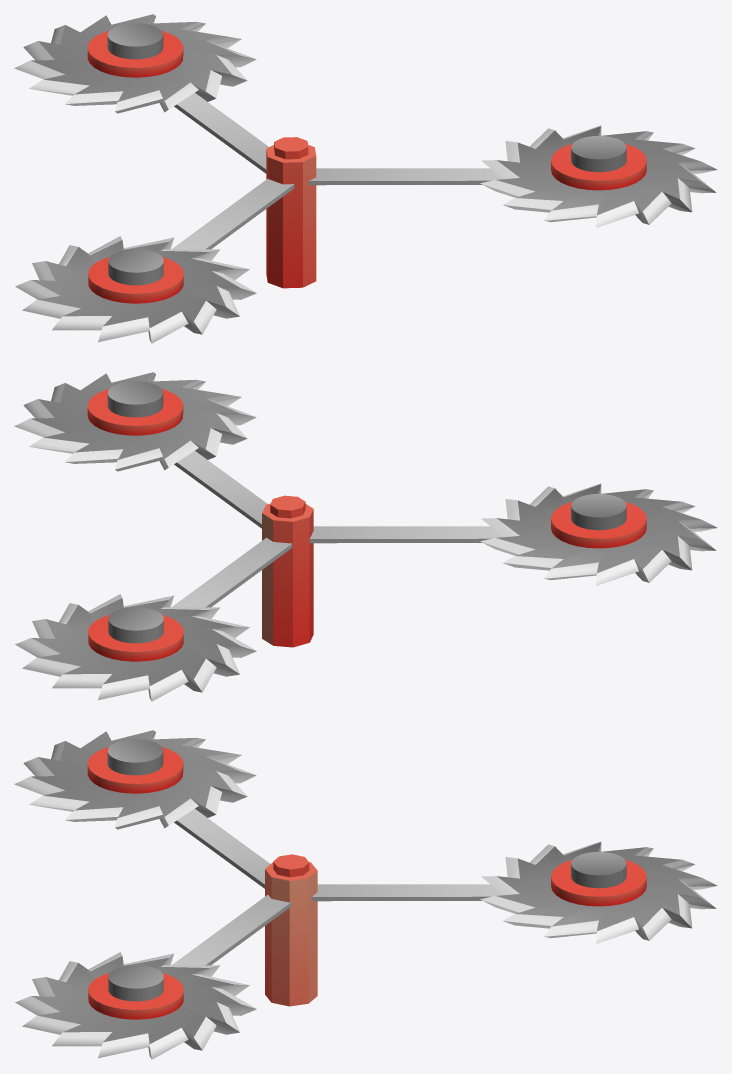
File: LuoiCuaLon.fbx
The picture shows the model from 3 angles, top to bottom: view 1: azimuth 30°, elevation 25°; view 2: azimuth 150°, elevation 25°; view 3: azimuth 270°, elevation 25°; orthographic projection.
Visible parts, largest first — view 1: LuoiCua.003, LuoiCua.005, LuoiCua.004, Cylinder; view 2: LuoiCua.004, LuoiCua.003, LuoiCua.005, Cylinder; view 3: LuoiCua.005, LuoiCua.004, LuoiCua.003, Cylinder.
Part boxes in pixels (x1,y1,x2,y2): LuoiCua.003: [15, 236, 256, 343]; LuoiCua.005: [480, 125, 717, 227]; LuoiCua.004: [14, 14, 256, 113]; Cylinder: [172, 92, 503, 288]; LuoiCua.004: [15, 594, 256, 701]; LuoiCua.003: [480, 483, 717, 585]; LuoiCua.005: [14, 372, 256, 471]; Cylinder: [172, 450, 503, 647]; LuoiCua.005: [15, 952, 256, 1059]; LuoiCua.004: [480, 841, 717, 943]; LuoiCua.003: [14, 730, 256, 829]; Cylinder: [172, 808, 503, 1006].
Size of the model in its own units: 1621 by 308 by 1472.
